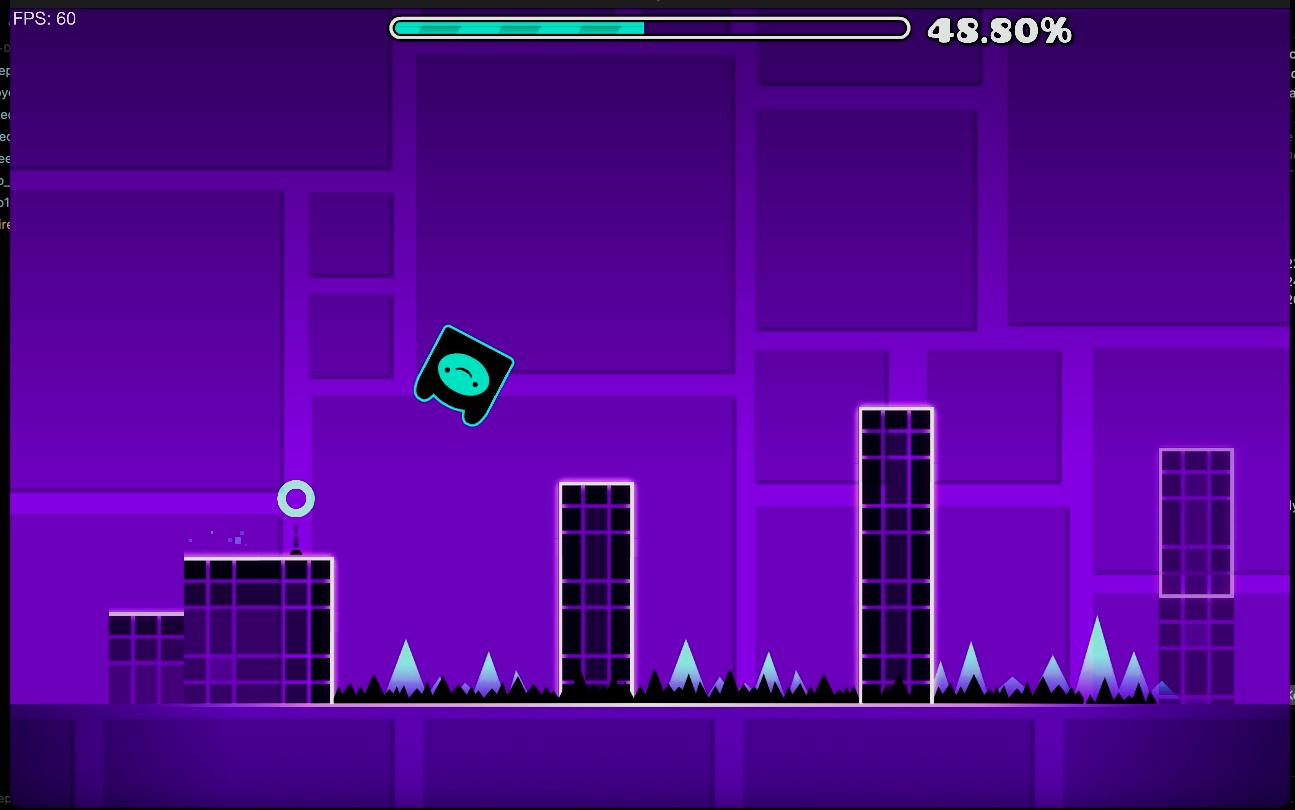block: (186, 559, 334, 707), (861, 404, 931, 703), (1163, 450, 1239, 706), (561, 483, 632, 703)
player: (416, 325, 513, 425)
spike: (934, 611, 1162, 704), (637, 636, 856, 701), (337, 641, 556, 701)
